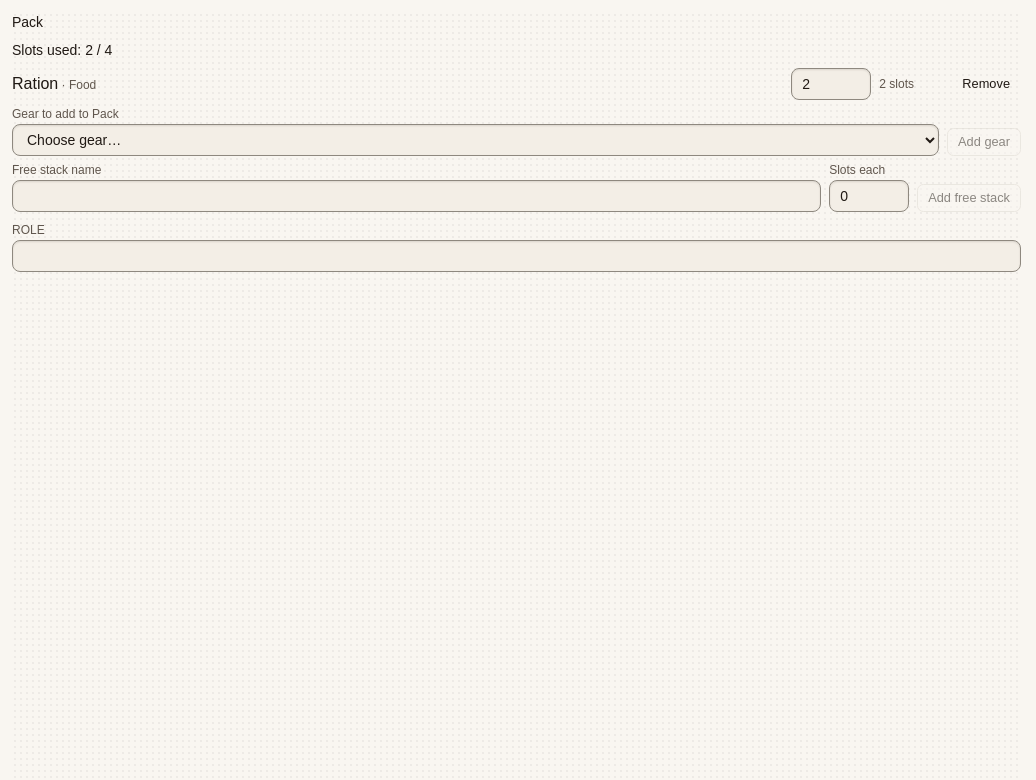
Test: SheetFields with an inventory field › shows the stored quantity again when the input is left empty
Clear the number field named "Quantity of Ration". click: (831, 84)
box: [791,68,871,100]
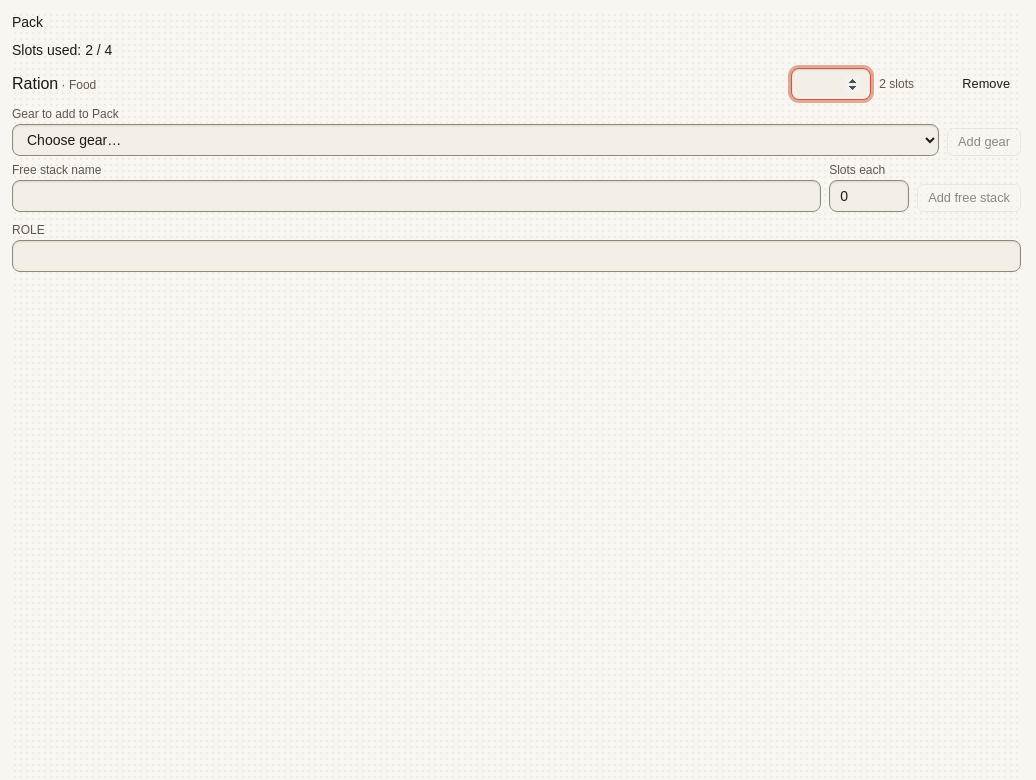
Press Tab
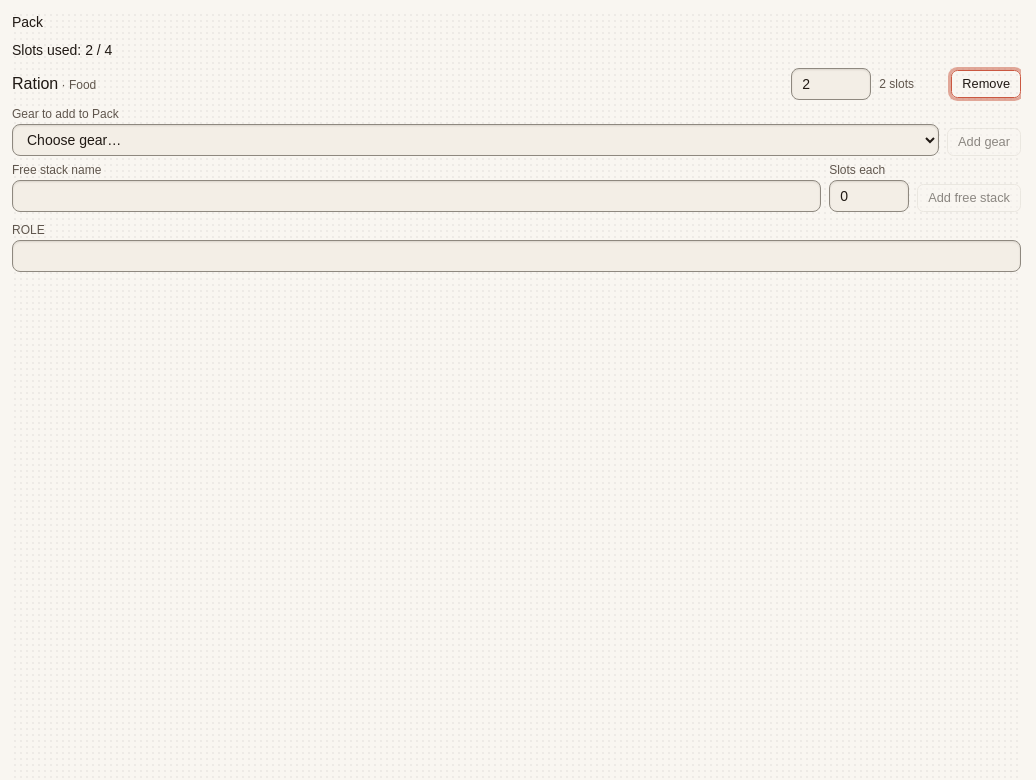
Expected: the number field named "Quantity of Ration" holds "2", [791,68,871,100]
